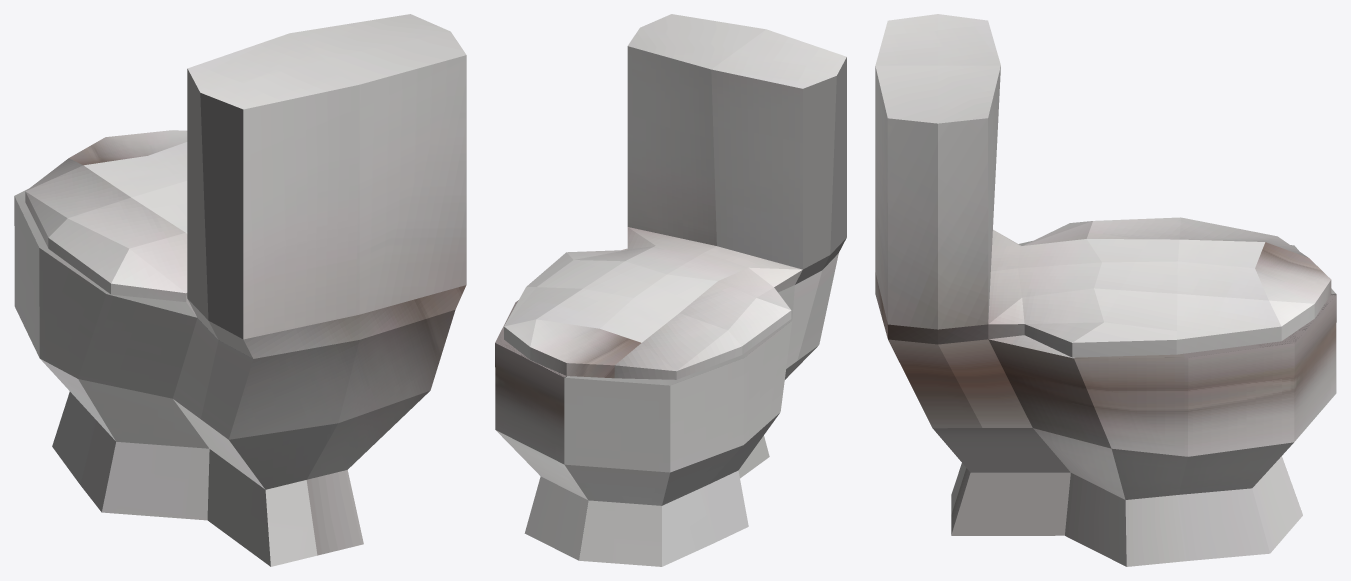
File: toilet.fbx
The picture shows the model from 3 angles, left to right: view 1: azimuth 30°, elevation 25°; view 2: azimuth 150°, elevation 25°; view 3: azimuth 270°, elevation 25°; orthographic projection. The views are drawn at different scales.
Visible parts, largest first — view 1: Cylinder; view 2: Cylinder; view 3: Cylinder.
Part boxes in pixels (x1,y1,x2,y2): Cylinder: (14,14,466,566); Cylinder: (495,14,846,566); Cylinder: (875,14,1336,566).
Bounding box in the file's own units: 173 × 277 × 257.
